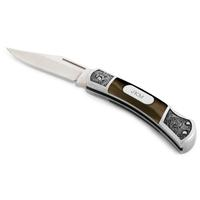knife: (4, 41, 193, 150)
